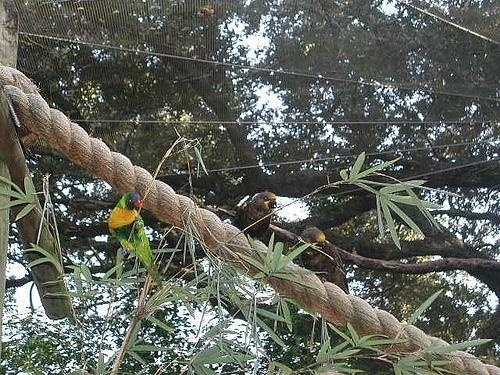bird: (109, 191, 166, 290), (301, 226, 351, 294), (234, 191, 278, 240)
